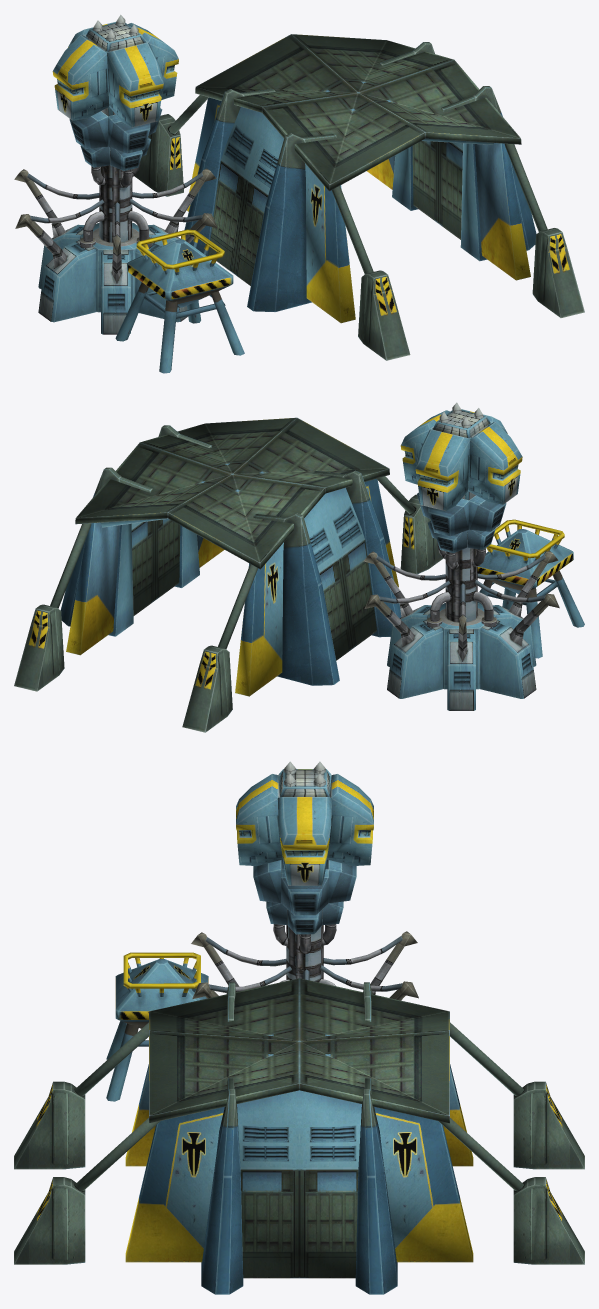
The model's file is xairbase.FBX.
The picture shows the model from 3 angles, top to bottom: view 1: azimuth 30°, elevation 25°; view 2: azimuth 150°, elevation 25°; view 3: azimuth 270°, elevation 25°; orthographic projection. The views are drawn at different scales.
Parts seen in each view (by area): view 1: XAirBase_Hangar, XAirBase; view 2: XAirBase_Hangar, XAirBase; view 3: XAirBase_Hangar, XAirBase.
Part boxes in pixels (box(x1,y1,x2,y2)): XAirBase_Hangar: box(134, 34, 584, 360); XAirBase: box(14, 14, 244, 373); XAirBase_Hangar: box(14, 417, 442, 732); XAirBase: box(363, 402, 584, 710); XAirBase_Hangar: box(14, 978, 584, 1294); XAirBase: box(106, 761, 418, 1101).
Size of the model in its own units: 70.52 by 39.51 by 64.29.
Materials: 3 (3 with a texture image).
